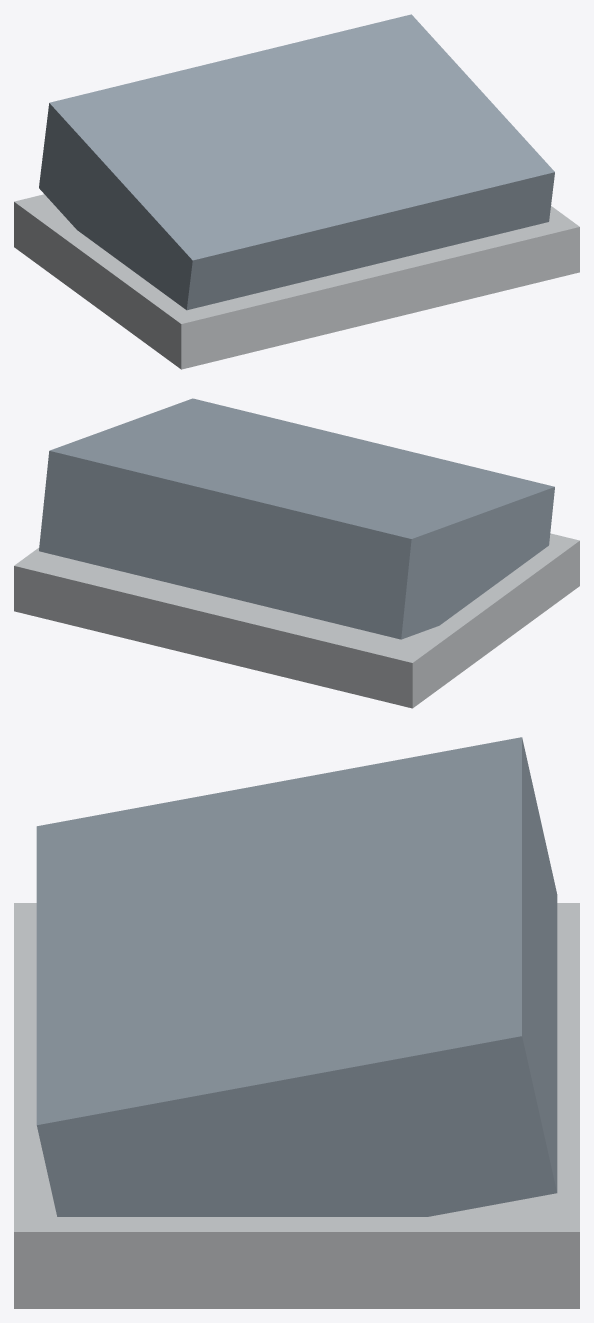
File: skylight.glb
The picture shows the model from 3 angles, top to bottom: view 1: azimuth 30°, elevation 25°; view 2: azimuth 150°, elevation 25°; view 3: azimuth 270°, elevation 25°; orthographic projection. The views are drawn at different scales.
Parts seen in each view (by area): view 1: props_skylight; view 2: props_skylight; view 3: props_skylight.
Part boxes in pixels (<box>): props_skylight: <box>14,14,579,369</box>; props_skylight: <box>14,398,579,708</box>; props_skylight: <box>14,737,579,1308</box>.
Bounding box in the file's own units: 2.2 × 0.8041 × 1.6.
